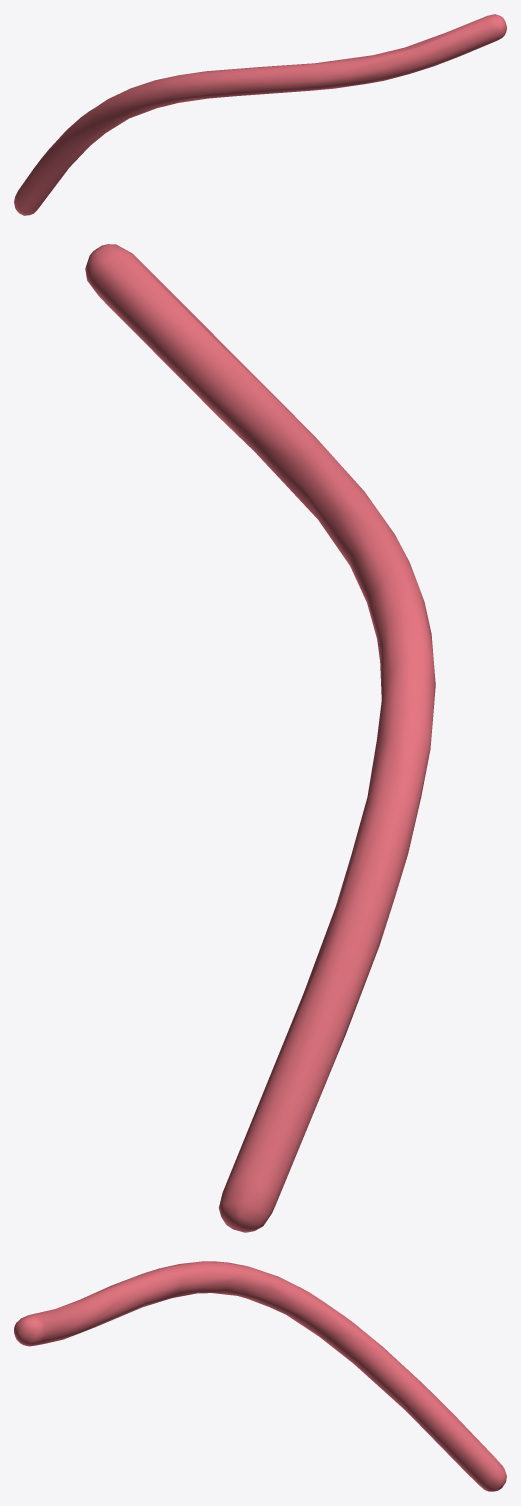
Rendered from fma69494_fj2133.glb.
The picture shows the model from 3 angles, top to bottom: view 1: azimuth 30°, elevation 25°; view 2: azimuth 150°, elevation 25°; view 3: azimuth 270°, elevation 25°; orthographic projection. The views are drawn at different scales.
Visible parts, largest first — view 1: FMA69494_FJ2133; view 2: FMA69494_FJ2133; view 3: FMA69494_FJ2133.
Part boxes in pixels (x1,y1,x2,y2): FMA69494_FJ2133: [14, 14, 506, 215]; FMA69494_FJ2133: [85, 244, 435, 1232]; FMA69494_FJ2133: [14, 1261, 506, 1491].
Bounding box in the file's own units: 0.0304 × 0.0277 × 0.0382.
